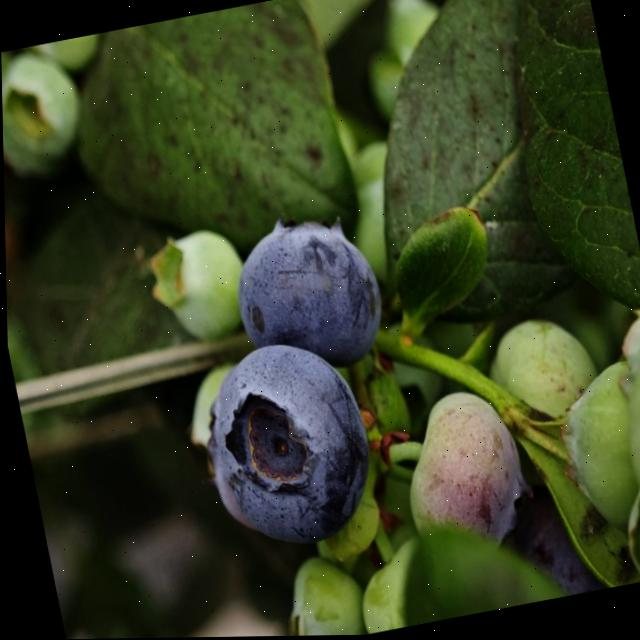RipeBlueBerry: (185, 325, 384, 560), (218, 200, 393, 385)
Semi-RipeBlueBerry: (383, 379, 538, 562)
